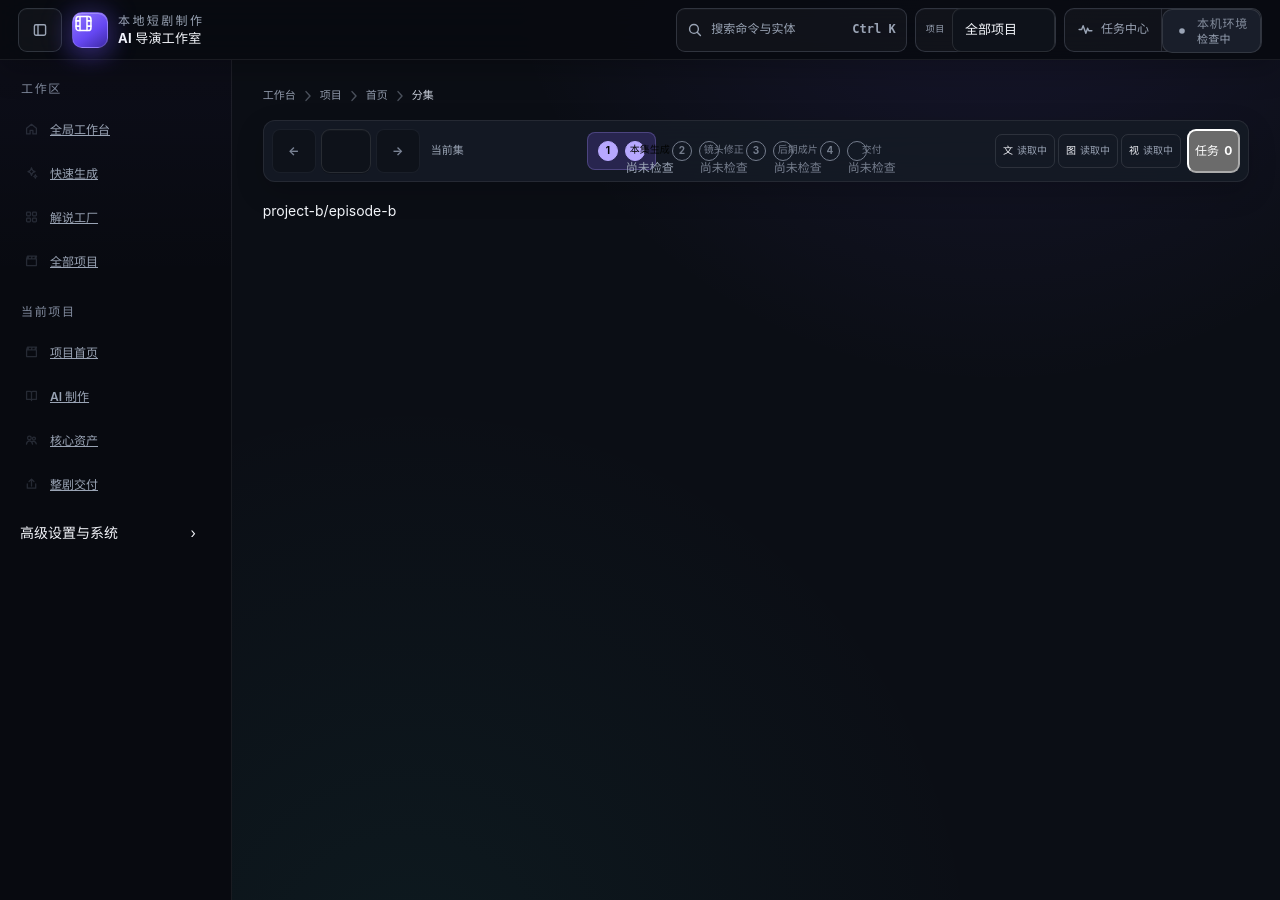
V2 router foundation › replaces episode content when switching to project assets (project-b)
This screenshot has width=1280, height=900.
What coordinates should you click on to do the following:
click the link "核心资产"
I would click on:
 (60, 440)
Its box is [23,432,98,448].
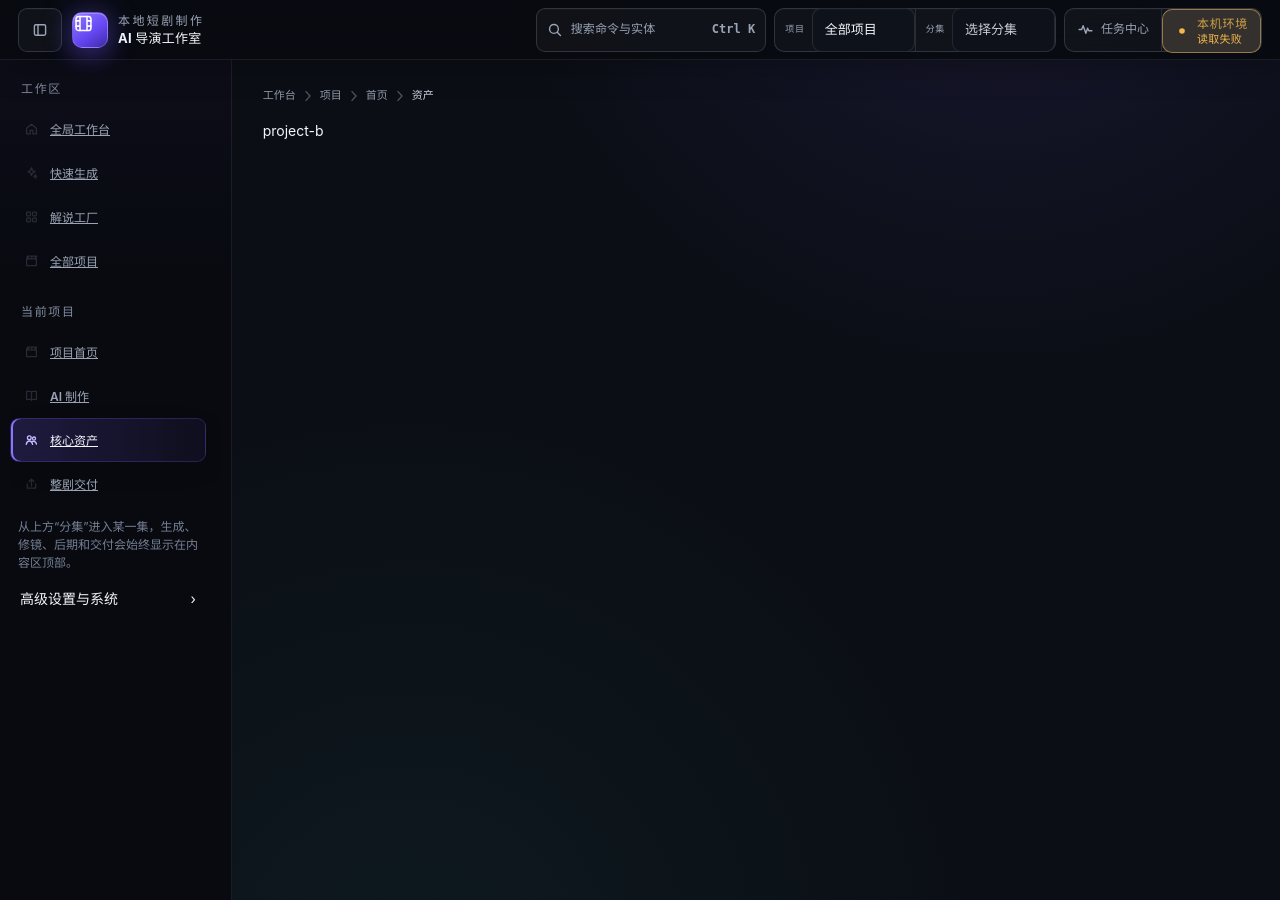
Result: the text named "核心资产页" reads "project-b" at [263,122,324,139]
Result: the element "当前分集与制作阶段" is gone
